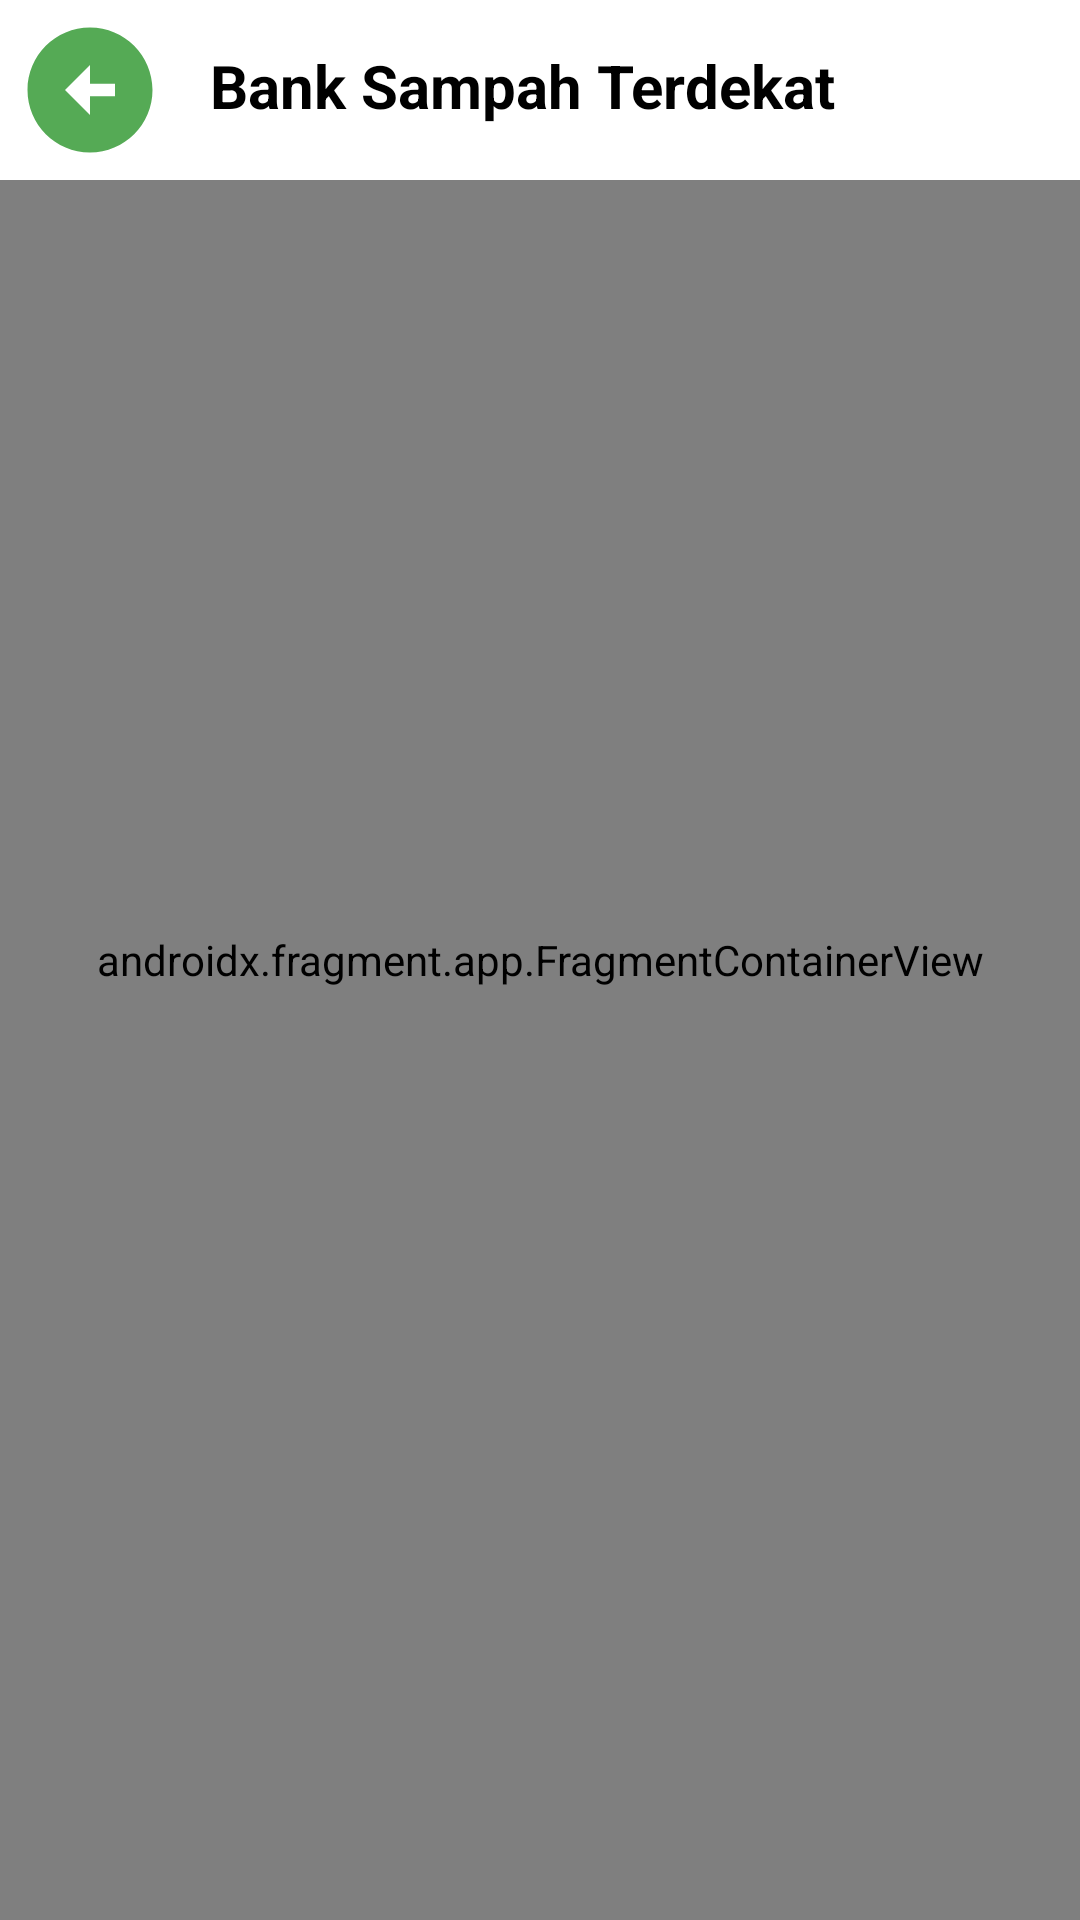

Named icons in this screenshot (1080 x 1920) and their bounding boxes, (x1, y1, x2, y2):
Navigate to the previous screen: (27, 27, 153, 153)
